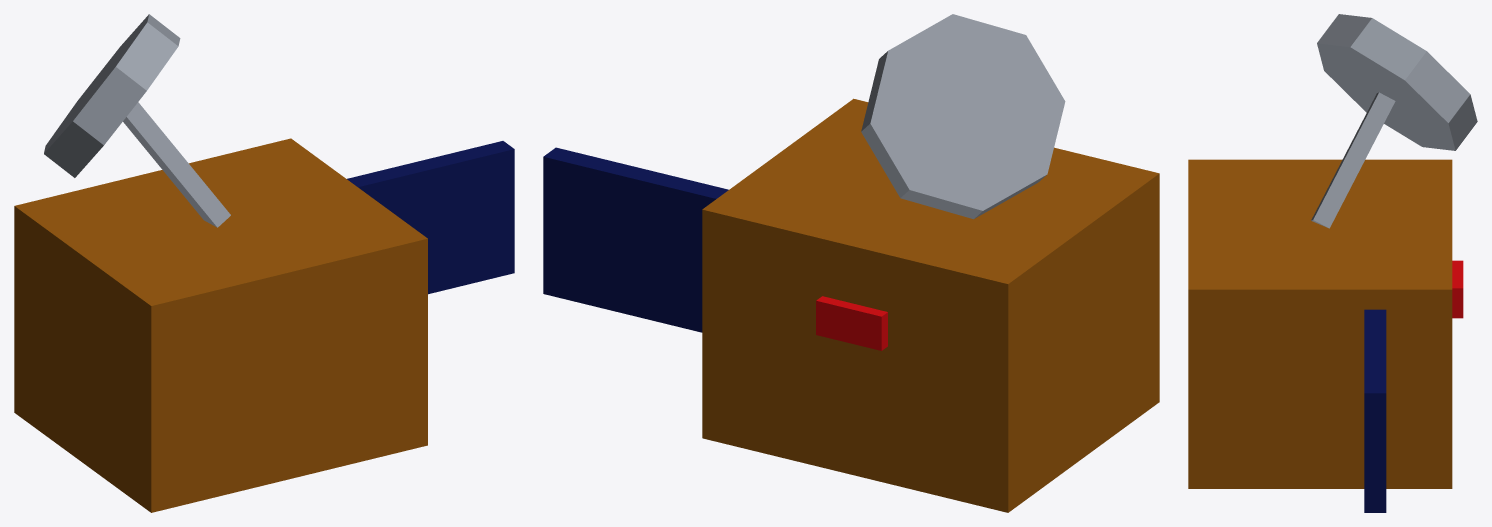
The model's file is MoonV2_Prop_Probe.fbx.
The picture shows the model from 3 angles, left to right: view 1: azimuth 30°, elevation 25°; view 2: azimuth 150°, elevation 25°; view 3: azimuth 270°, elevation 25°; orthographic projection. The views are drawn at different scales.
Parts seen in each view (by area): view 1: MoonV2_Prop_Probe; view 2: MoonV2_Prop_Probe; view 3: MoonV2_Prop_Probe.
Part boxes in pixels (x1,y1,x2,y2): MoonV2_Prop_Probe: (14, 14, 514, 512); MoonV2_Prop_Probe: (543, 14, 1159, 512); MoonV2_Prop_Probe: (1188, 14, 1477, 512).
Bounding box in the file's own units: 0.4631 × 0.3853 × 0.2631.
